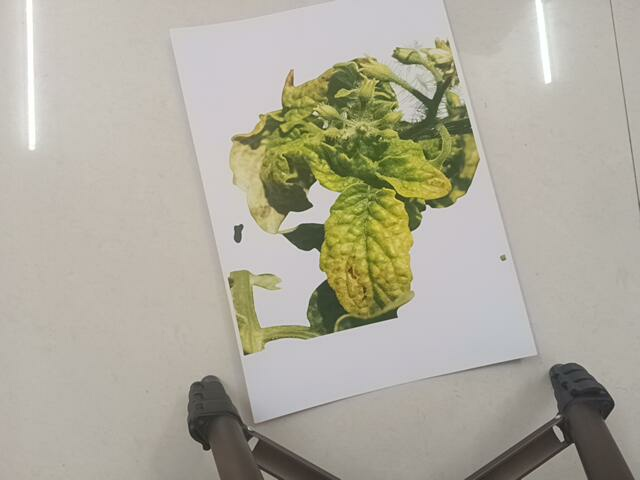Tomamto_Leaf_curl_virus: (218, 50, 482, 348)
